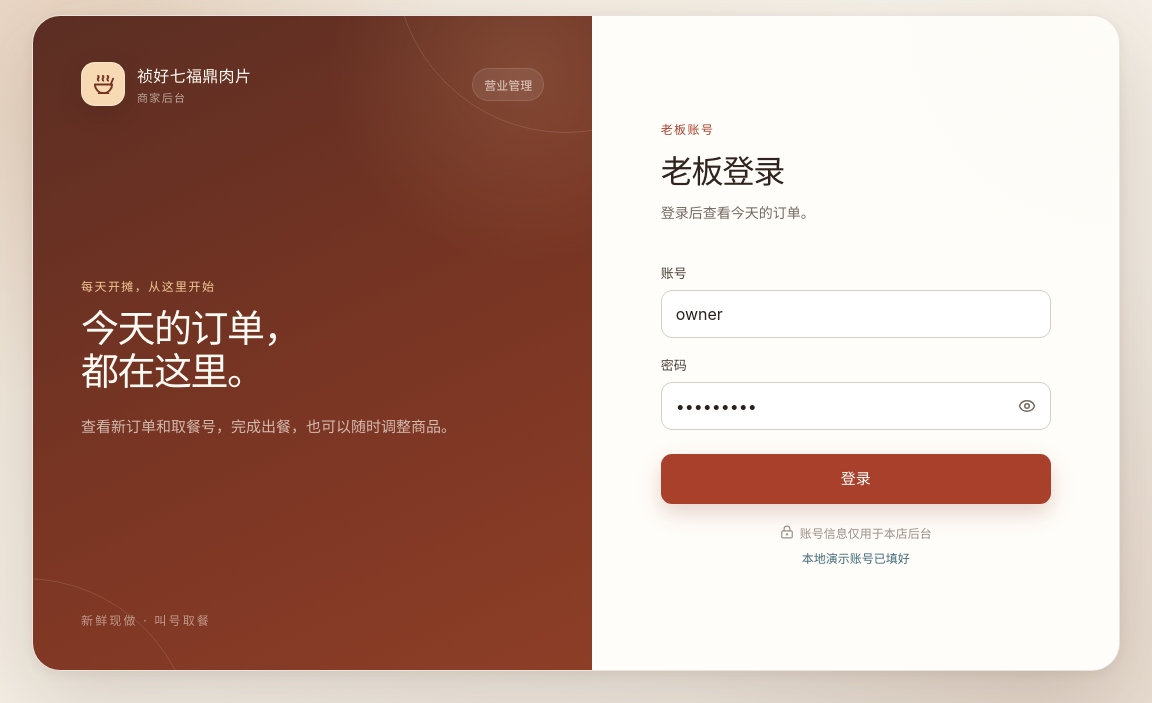
merchant V2 app › edits product points and keeps them as integers
Click the button "登录" at (856, 478), box top-left (661, 454), bottom-right (1051, 504)
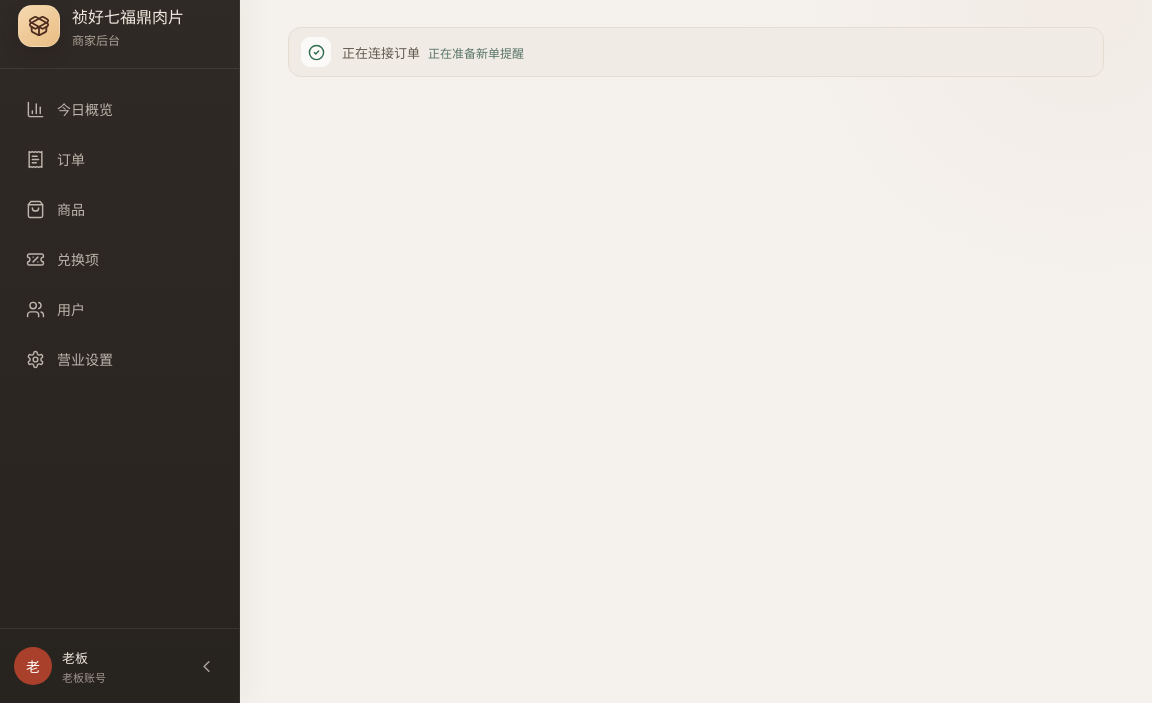
Click the link "商品" at (56, 209), box top-left (26, 200), bottom-right (85, 218)
(page scrolled)
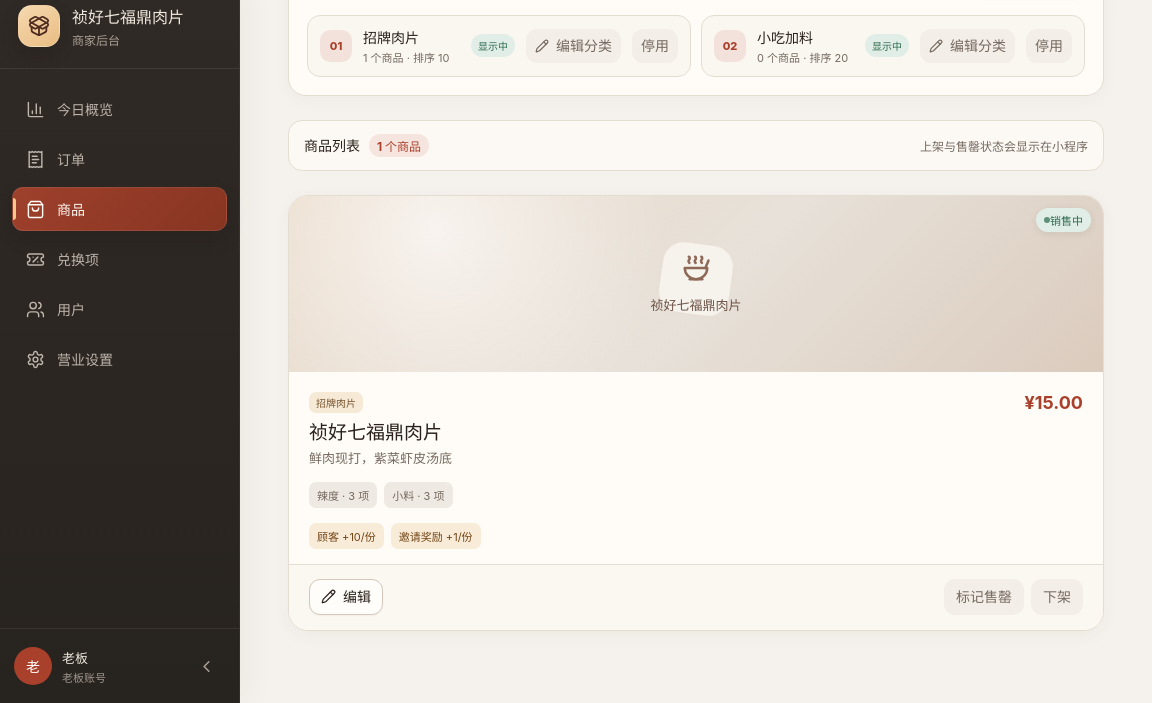
Click the button "编辑" at (346, 596), box top-left (309, 578), bottom-right (383, 614)
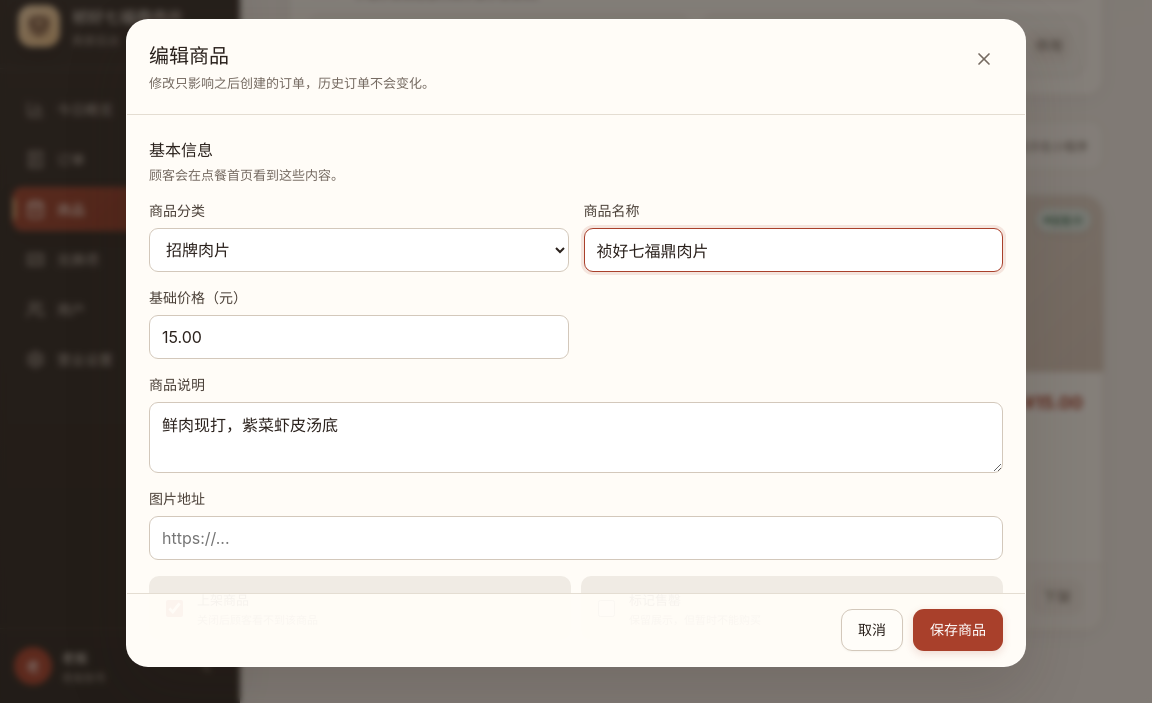
Replace the text in the field labelled "商品名称" with "祯好七福鼎肉片测" at (793, 250), box top-left (584, 228), bottom-right (1003, 272)
Replace the text in the field labelled "商品名称" with "祯好七福鼎肉片测试" at (793, 250), box top-left (584, 228), bottom-right (1003, 272)
(page scrolled)
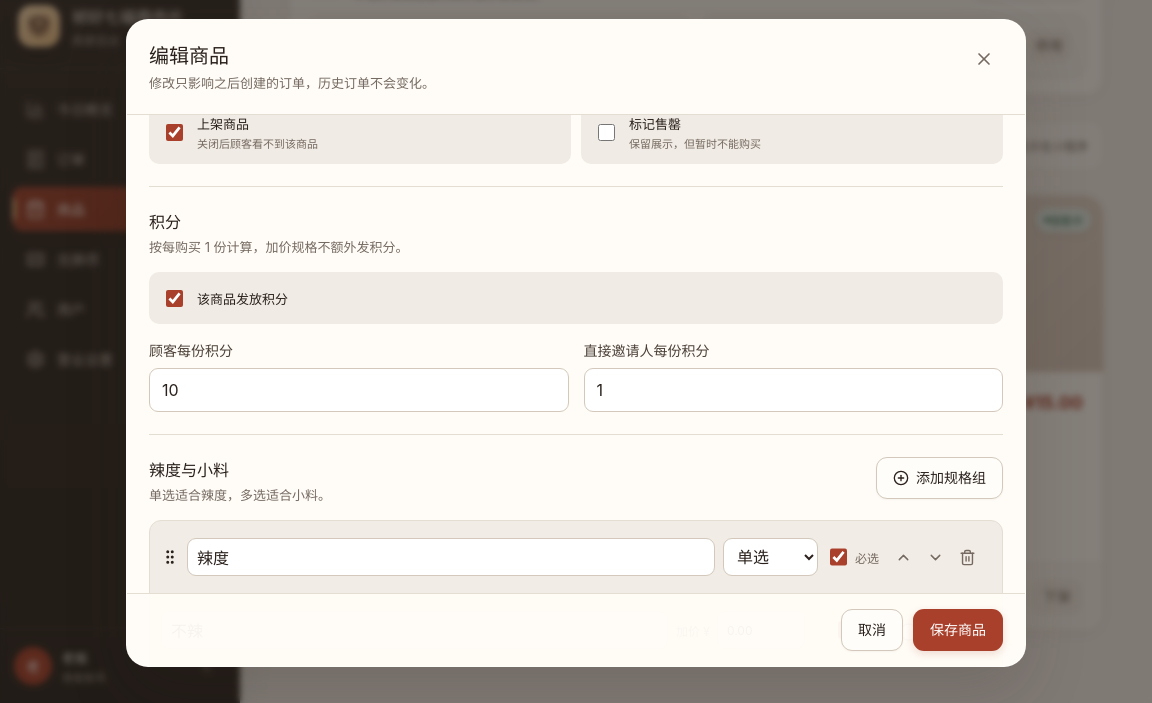
Replace the text in the number field labelled "顾客每份积分" with "12" at (359, 390), box top-left (149, 368), bottom-right (568, 412)
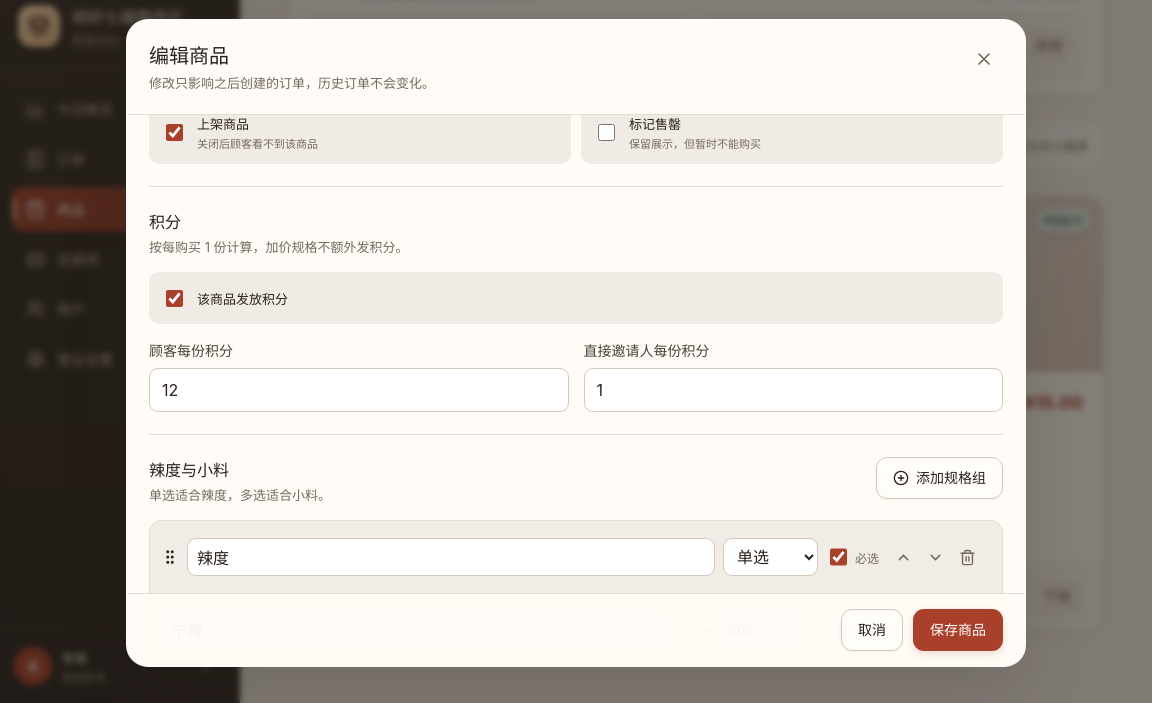
Click the button "保存商品" at (958, 630), box top-left (913, 609), bottom-right (1003, 651)
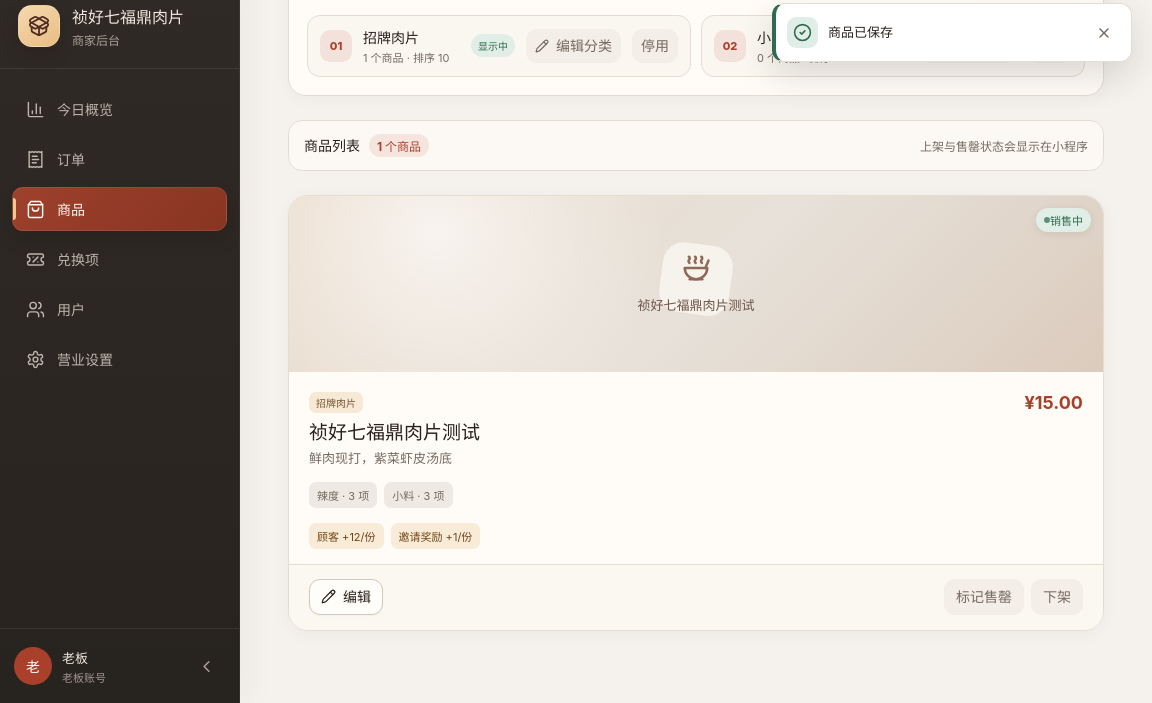
Now the text "商品已保存" is shown, box top-left (828, 24), bottom-right (893, 40)
Now the text "顾客 +12/份" is shown, box top-left (309, 522), bottom-right (384, 548)
